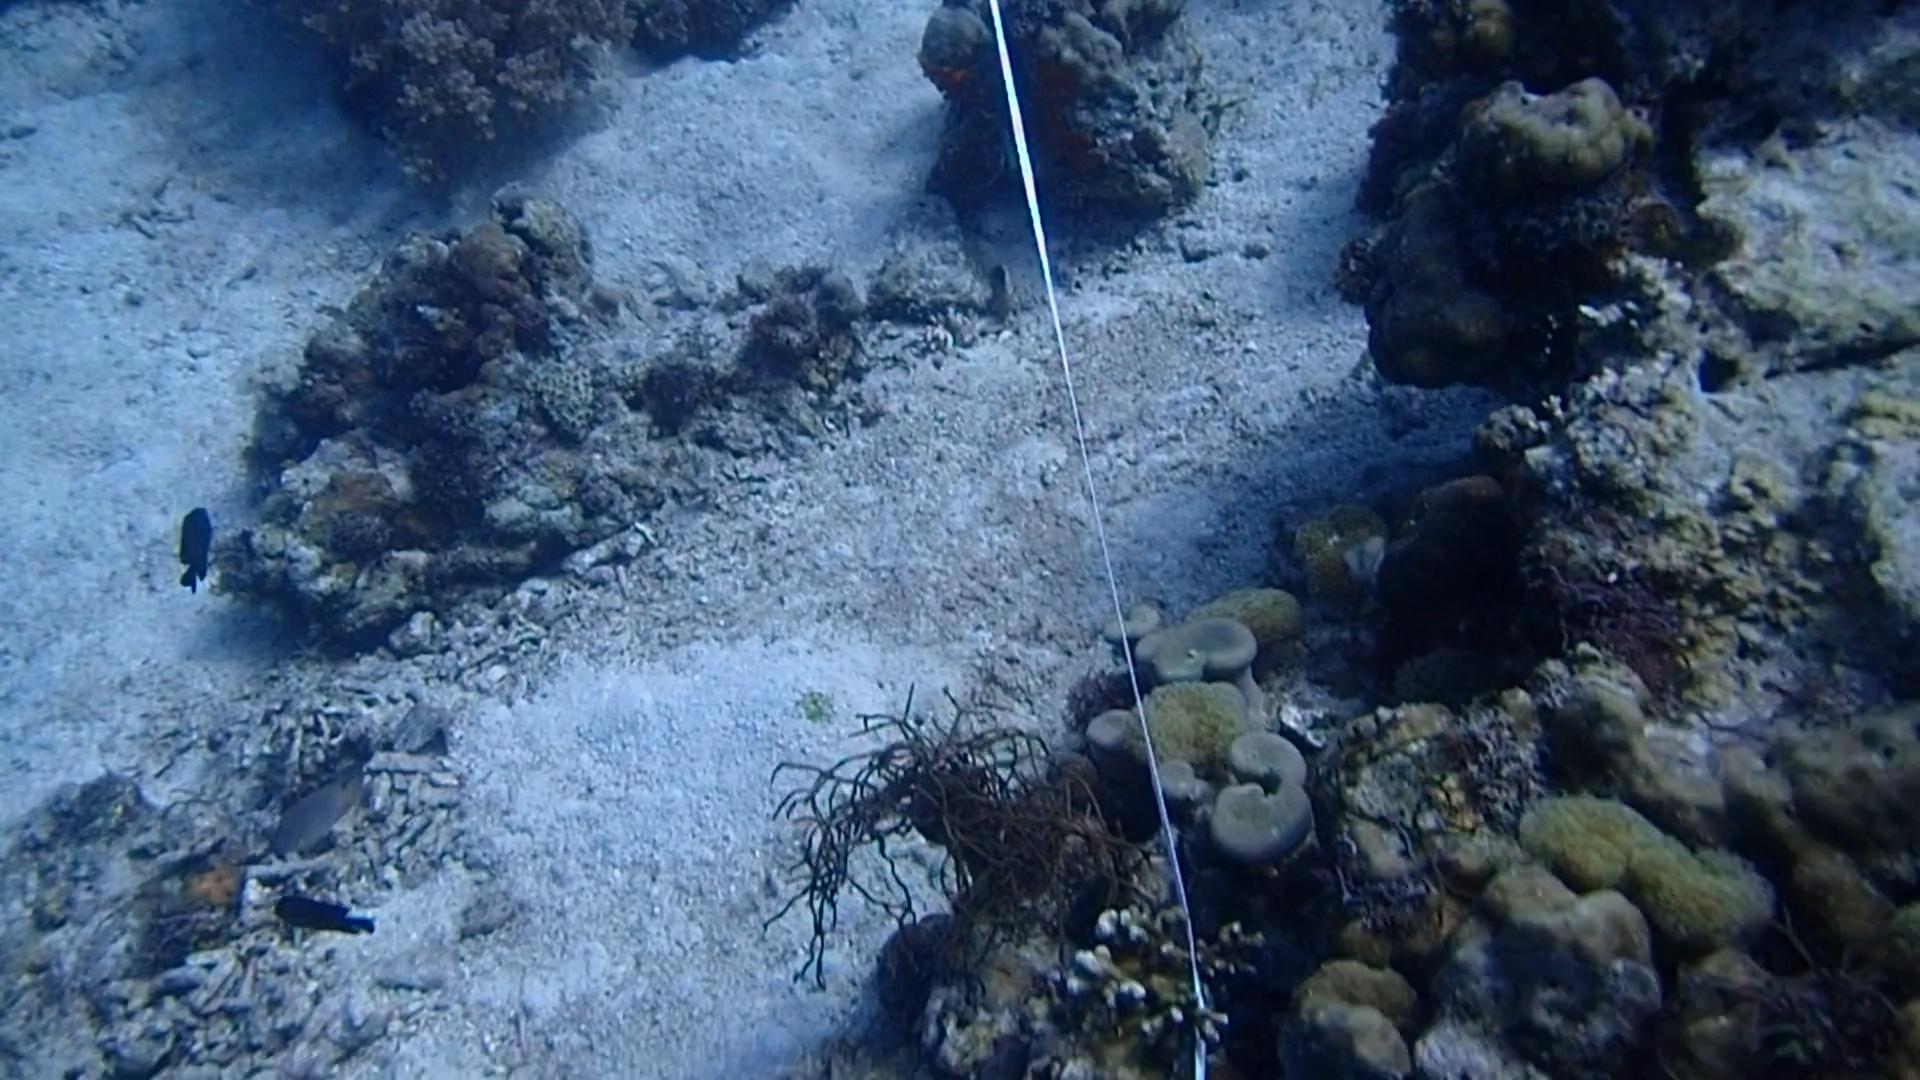Dark Fish: (162, 497, 237, 585), (266, 893, 382, 935)
Light Fish: (268, 756, 364, 855)
